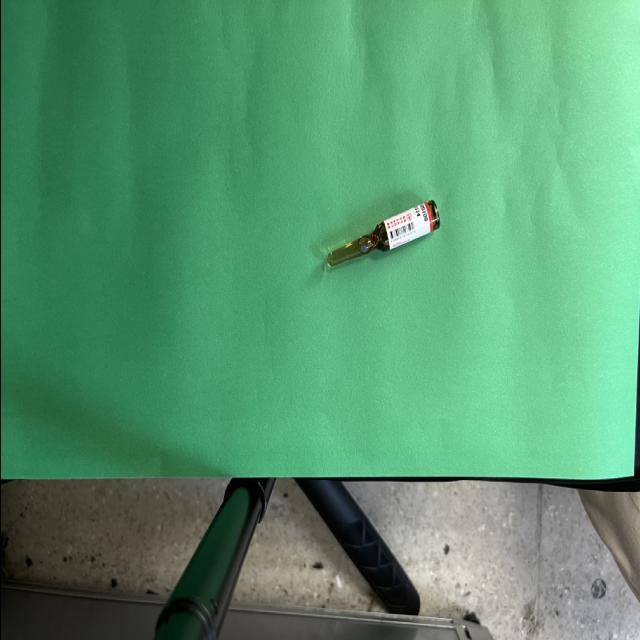Ampoules: (325, 202, 439, 267)
